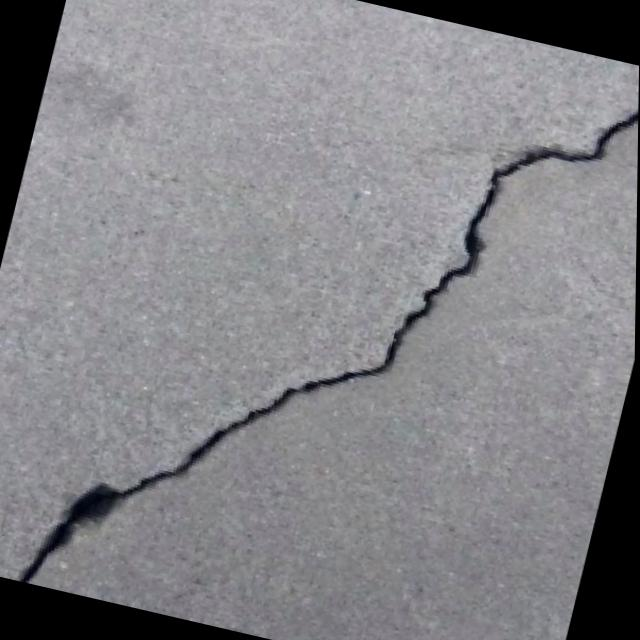Crack: (7, 0, 640, 640)
